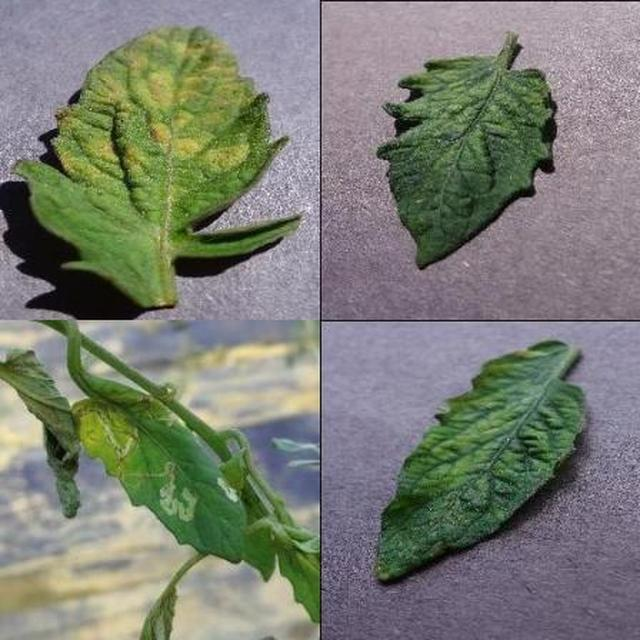Leaf Mold: (229, 234, 640, 640)
